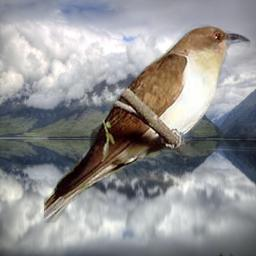Cuckoo: (44, 23, 251, 223)
